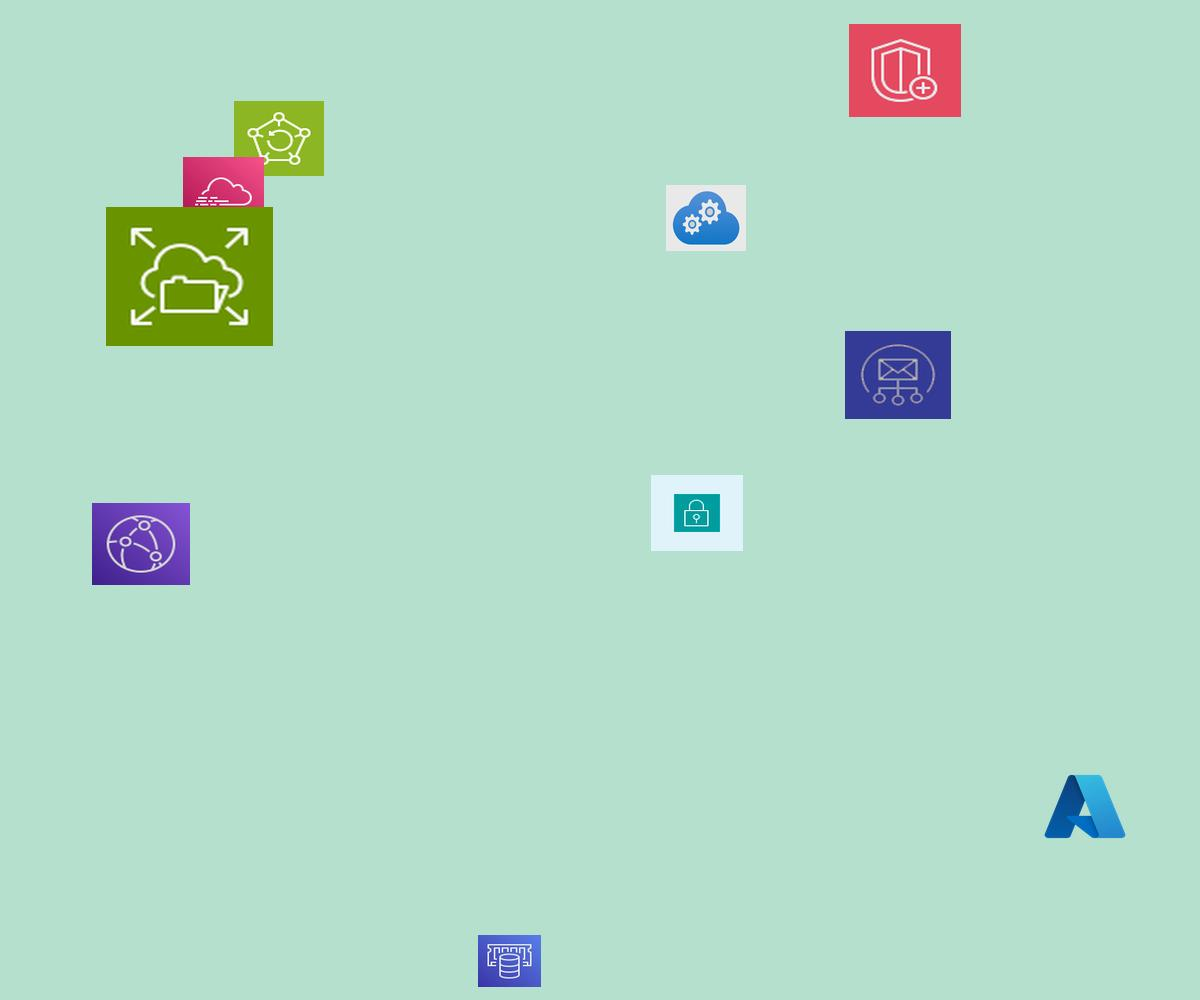AWS-Backup: (234, 101, 324, 176)
AWS-CloudFront: (92, 503, 190, 585)
AWS-CloudTrail: (183, 157, 264, 225)
AWS-EFS: (106, 207, 273, 346)
AWS-ElastiCache: (478, 935, 541, 987)
AWS-Private-subnet: (651, 475, 743, 551)
AWS-Shield: (849, 24, 961, 117)
AWS-Simple-Email-Service: (845, 331, 951, 419)
Azure_cloud_services: (666, 185, 746, 251)
Azure_services: (1041, 770, 1129, 843)
